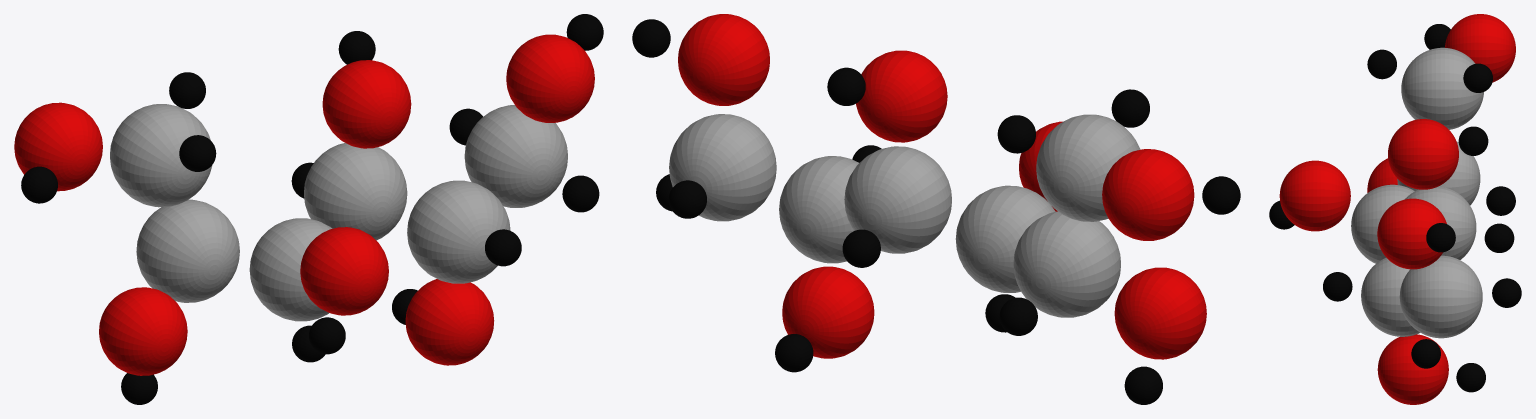
File: Fructooligosaccharides.glb
The picture shows the model from 3 angles, left to right: view 1: azimuth 30°, elevation 25°; view 2: azimuth 150°, elevation 25°; view 3: azimuth 270°, elevation 25°; orthographic projection. The views are drawn at different scales.
Parts seen in each view (by area): view 1: world; view 2: world; view 3: world.
Part boxes in pixels (bbox=[...]): world: bbox=[14, 14, 603, 404]; world: bbox=[632, 14, 1240, 404]; world: bbox=[1269, 14, 1521, 404].
Size of the model in its own units: 9.04 by 4.69 by 4.26.
